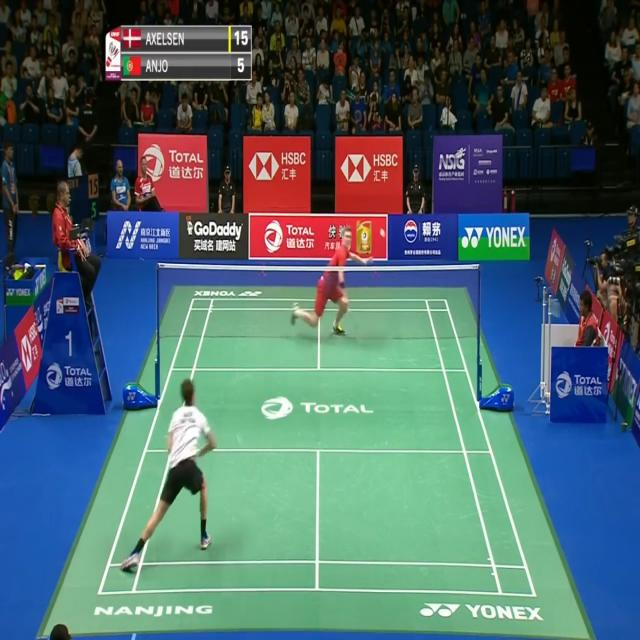Player1: (117, 370, 219, 580)
Player2: (282, 214, 380, 354)
